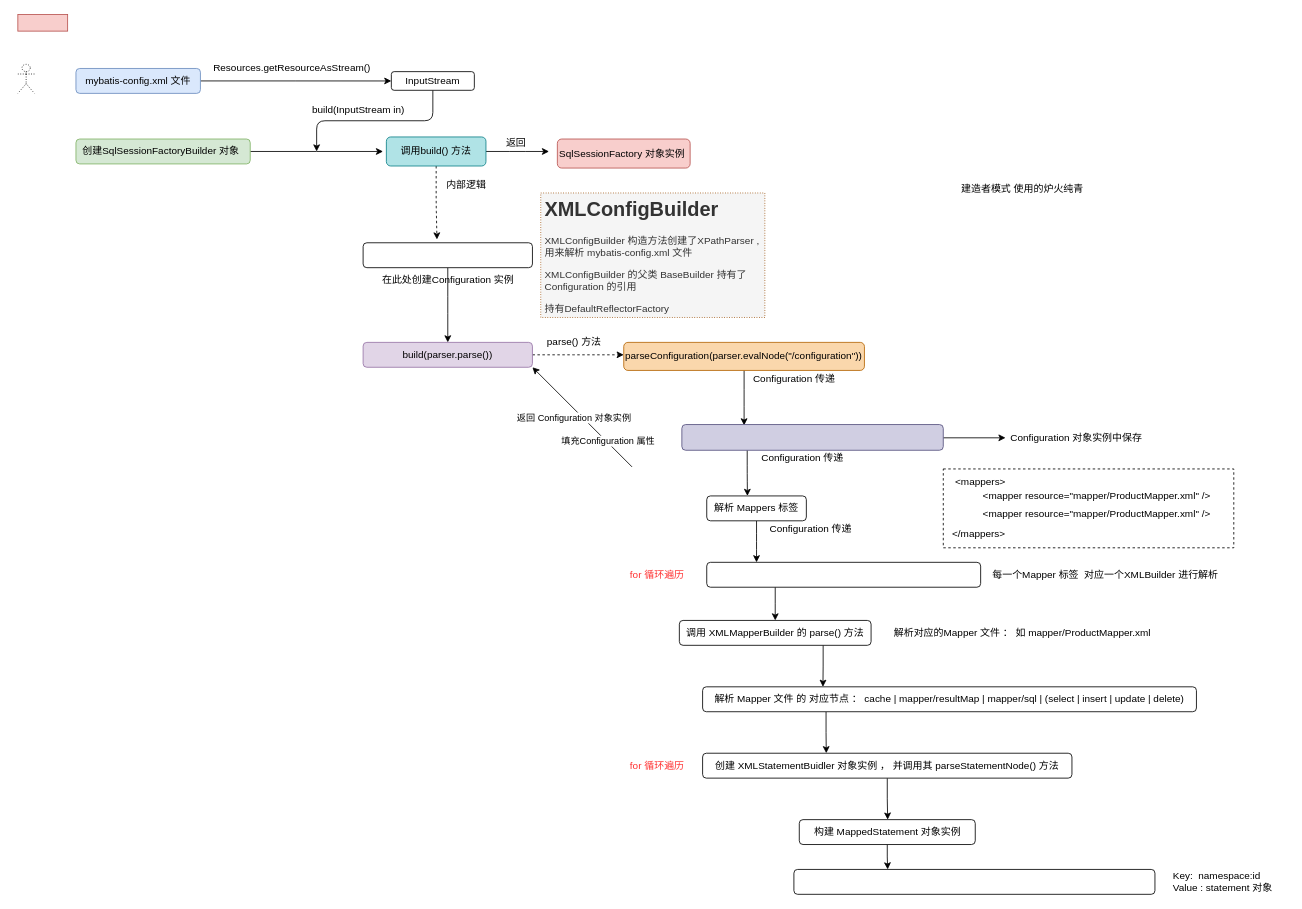
Image size: 1302x909. Some labels were removed from this diagram. Each missing label, with the box of its shape:
Actor: (17, 63, 34, 93)
创建XMLConfigBuidler 对象 - parser: (362, 242, 532, 268)
创建XMLMapperBuilder 实例 - 并持有 Configuration 对象引用: (706, 561, 981, 587)
将 MappedStatement 对象 缓存到 Configuration 中 ，缓存容器使用 HashMap: (793, 869, 1155, 894)
执行流程: (17, 14, 68, 31)
解析各种属性 - properties| settings | typeAliases | mappers: (681, 424, 943, 450)
